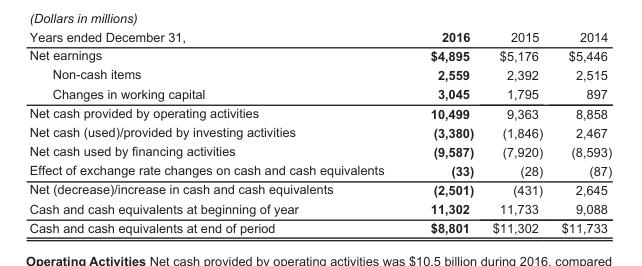table: (28, 29, 611, 235)
table column: (28, 29, 406, 235), (406, 29, 482, 235), (482, 29, 551, 235), (551, 29, 611, 235)
table column header: (28, 29, 611, 45)
table row: (28, 83, 611, 103), (28, 198, 611, 218), (28, 45, 611, 64), (28, 64, 611, 83), (28, 103, 611, 122), (28, 122, 611, 141), (28, 141, 611, 160), (28, 160, 611, 179), (28, 179, 611, 198), (28, 218, 611, 235), (28, 29, 611, 45)
